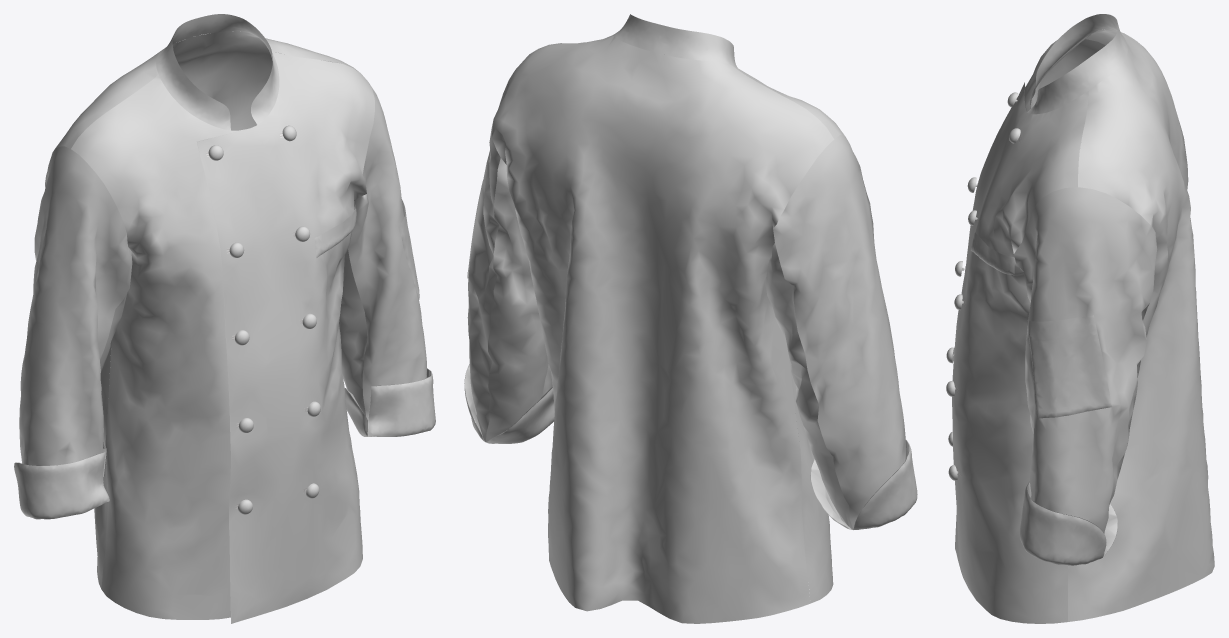
The model's file is chef.glb.
3 views of the same model, side by side, from view 1: azimuth 30°, elevation 25°; view 2: azimuth 150°, elevation 25°; view 3: azimuth 270°, elevation 25° (orthographic). The views are drawn at different scales.
Parts seen in each view (by area): view 1: Cloth_mesh; view 2: Cloth_mesh; view 3: Cloth_mesh.
Part boxes in pixels (bbox=[...]): Cloth_mesh: bbox=[14, 14, 435, 623]; Cloth_mesh: bbox=[464, 14, 917, 623]; Cloth_mesh: bbox=[952, 14, 1214, 623].
Bounding box in the file's own units: 0.6045 × 0.763 × 0.3391.
2 materials, 1 textured.
